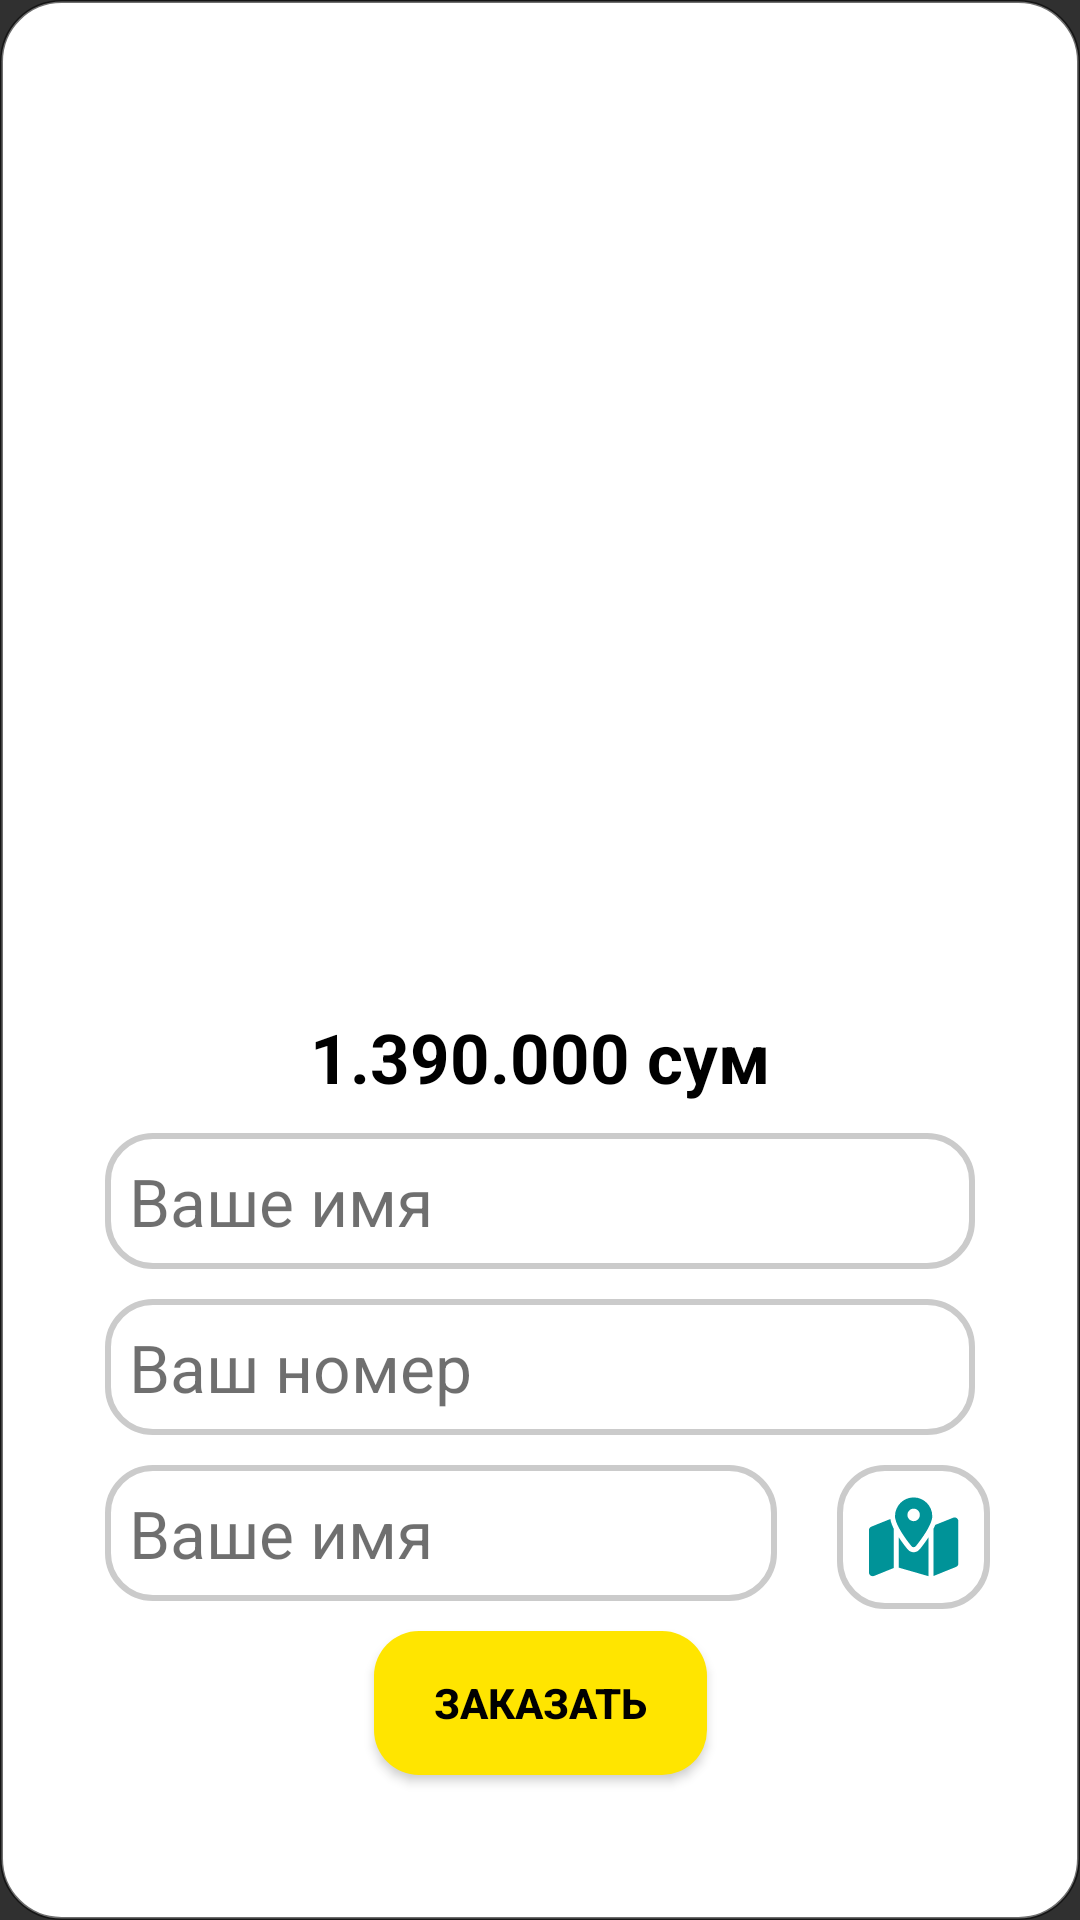

Icon bounding boxes for this 1080px x 1920px phone screenshot, format (x1=x1, y1=y1, x2=x2, y2=y2):
map: (x1=837, y1=1465, x2=990, y2=1609)
